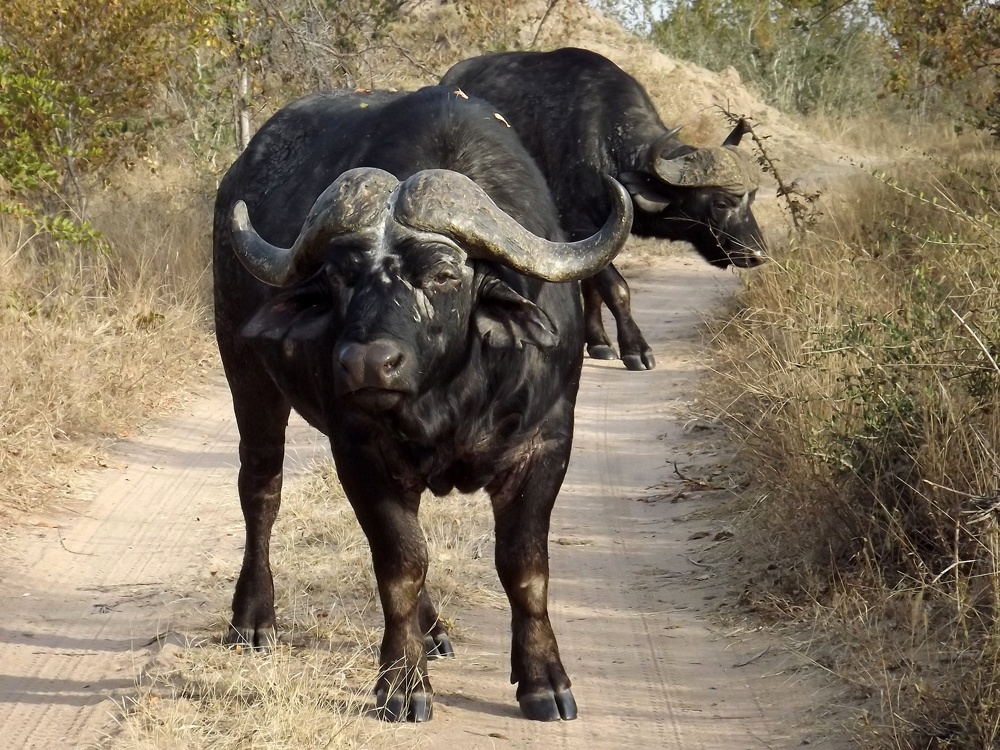buffalo: (208, 87, 632, 719), (438, 47, 770, 371)
